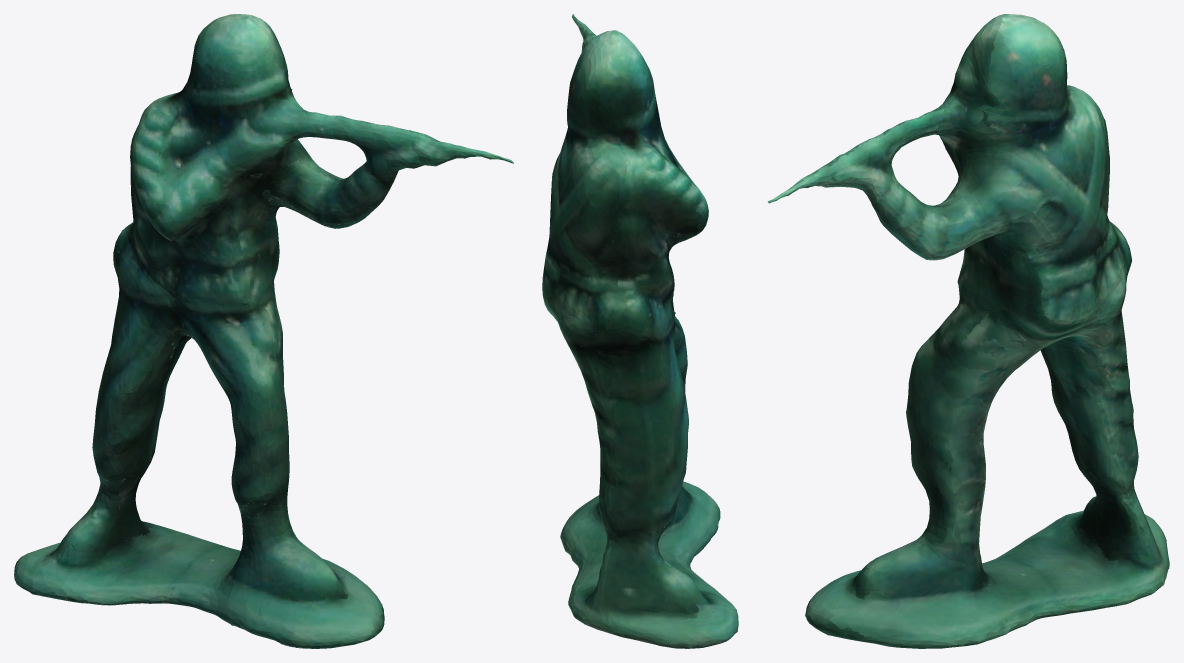
Rendered from toy_soldier_optimized.fbx.
3 renders of one model, left to right at view 1: azimuth 30°, elevation 25°; view 2: azimuth 150°, elevation 25°; view 3: azimuth 270°, elevation 25°, orthographic. The views are drawn at different scales.
Visible parts, largest first — view 1: model_Toy Soldier_20171122_142946985; view 2: model_Toy Soldier_20171122_142946985; view 3: model_Toy Soldier_20171122_142946985.
Boxes of the visible parts, <box> form: model_Toy Soldier_20171122_142946985: <box>14,14,513,648</box>; model_Toy Soldier_20171122_142946985: <box>542,14,738,648</box>; model_Toy Soldier_20171122_142946985: <box>767,14,1169,648</box>.
Bounding box in the file's own units: 6107 × 10027 × 6111.
Materials: 1 (1 with a texture image).
